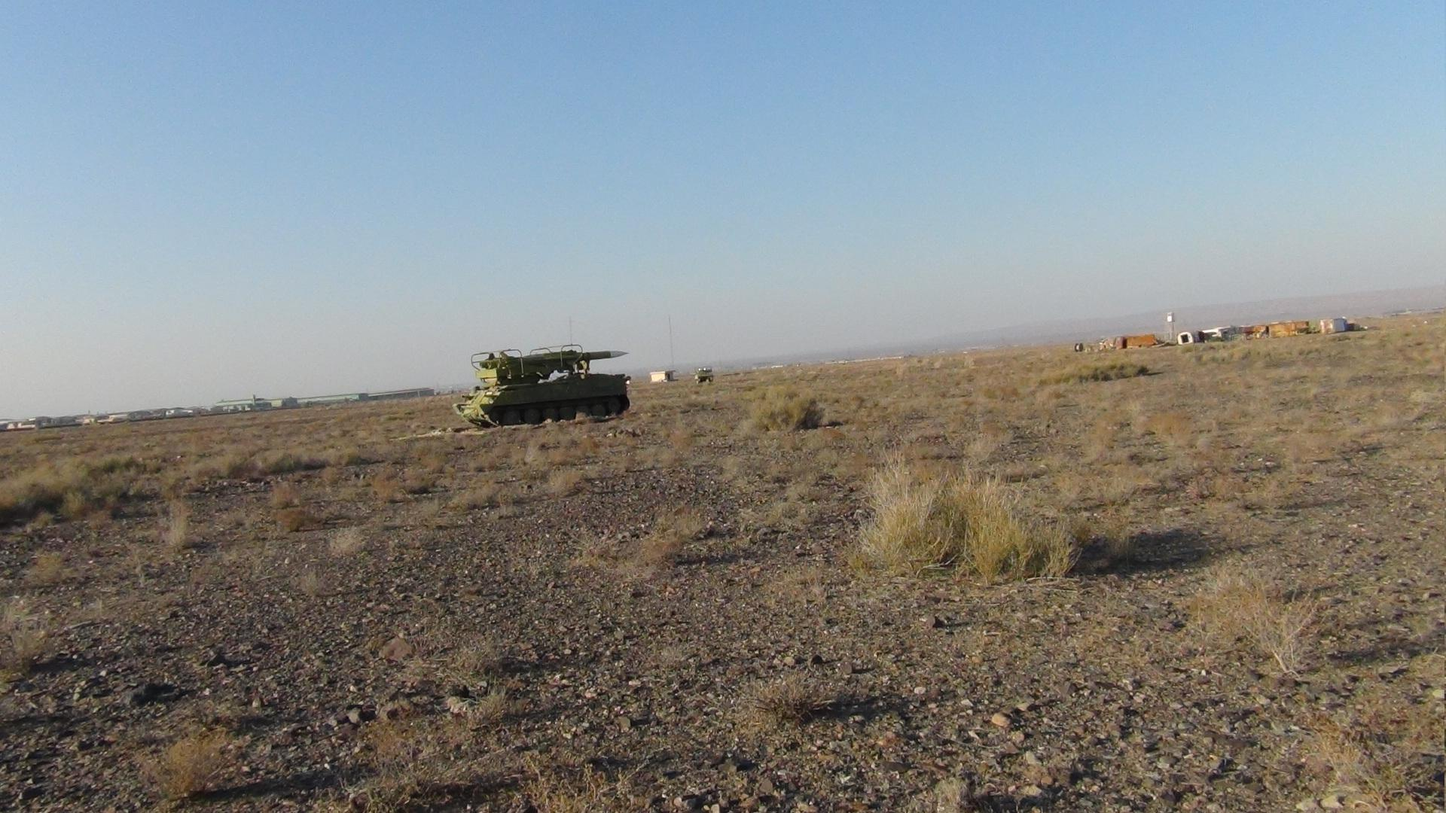armored_car: (468, 343, 631, 426)
